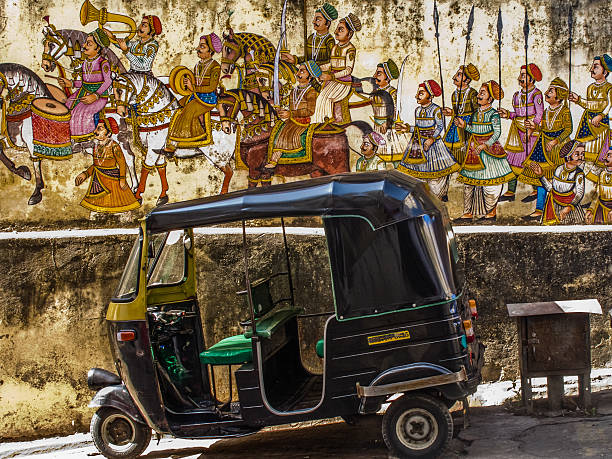threewheel: (84, 170, 485, 459)
